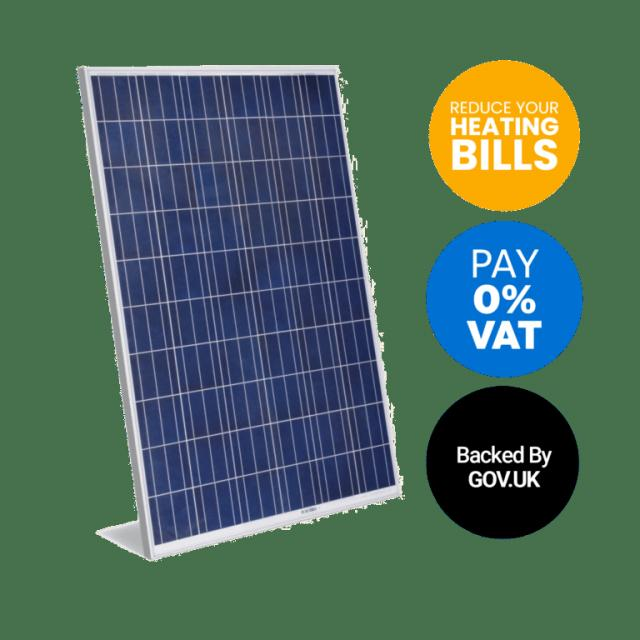no faulty: (84, 71, 398, 532)
